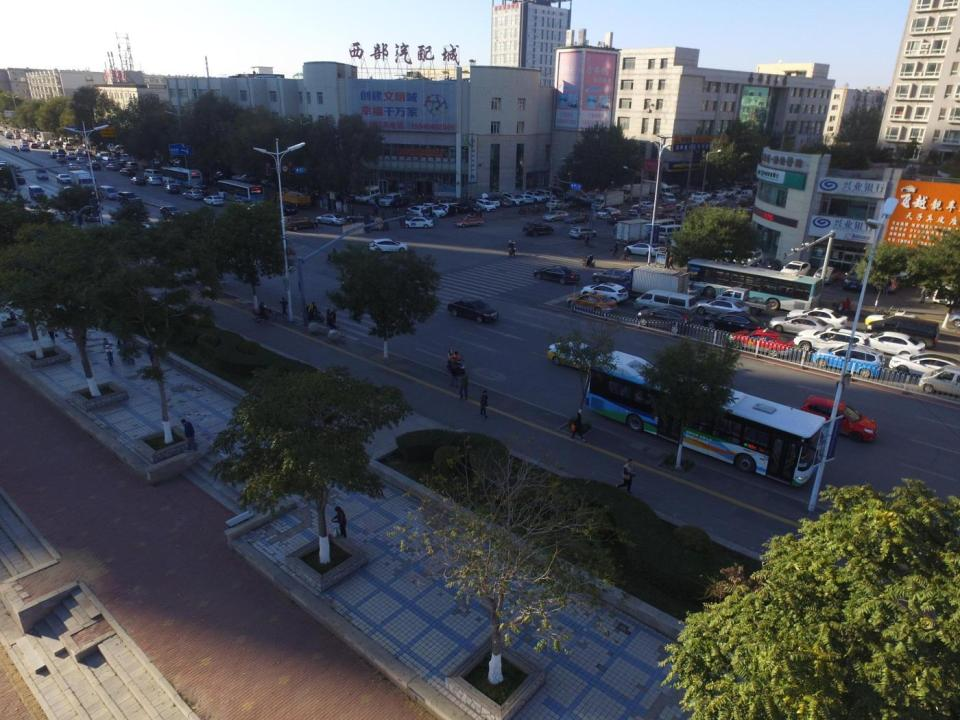bus: (585, 351, 831, 488), (686, 256, 822, 315), (217, 179, 266, 207), (159, 164, 204, 190), (33, 130, 43, 138)
car: (802, 395, 878, 442), (794, 320, 870, 357), (813, 343, 885, 378), (887, 351, 960, 383), (548, 340, 609, 377), (729, 329, 797, 359), (862, 330, 927, 360), (702, 311, 767, 338), (635, 305, 695, 334), (786, 307, 848, 333), (865, 310, 926, 336), (768, 315, 834, 339), (446, 296, 500, 323), (695, 297, 751, 319), (566, 292, 619, 315), (657, 278, 701, 302), (581, 282, 629, 304), (533, 264, 580, 284), (778, 258, 810, 284), (369, 237, 409, 256), (842, 262, 868, 290), (932, 278, 956, 308), (592, 268, 634, 285), (733, 245, 762, 269), (755, 256, 781, 282), (875, 266, 902, 291), (522, 221, 556, 237), (72, 204, 100, 223), (623, 243, 661, 257), (811, 266, 840, 284), (117, 190, 144, 208), (402, 215, 434, 229), (423, 202, 447, 220), (268, 201, 298, 215), (159, 204, 185, 220), (314, 212, 346, 225), (347, 212, 379, 225), (454, 215, 485, 228), (231, 198, 257, 213), (570, 226, 596, 239), (606, 212, 632, 225), (675, 200, 701, 213), (60, 185, 81, 201), (380, 192, 404, 206), (230, 171, 258, 183), (479, 196, 501, 211), (668, 213, 692, 226), (502, 192, 524, 206), (478, 192, 498, 207), (437, 202, 459, 215), (535, 189, 557, 202), (563, 213, 589, 224), (638, 193, 660, 206), (181, 190, 204, 202), (238, 172, 261, 184), (203, 194, 225, 206), (645, 209, 669, 220), (369, 193, 389, 206), (595, 207, 621, 217), (407, 206, 430, 217), (632, 202, 657, 212), (494, 194, 513, 207), (543, 210, 570, 219), (392, 195, 414, 206), (407, 199, 429, 210), (525, 191, 547, 202), (630, 205, 652, 216), (684, 196, 706, 207), (546, 200, 570, 210), (708, 196, 728, 208), (466, 200, 483, 214), (55, 173, 73, 186), (691, 191, 711, 202), (191, 185, 210, 196), (10, 172, 26, 185), (453, 199, 469, 212), (657, 203, 677, 213), (710, 189, 728, 199), (162, 177, 178, 188), (130, 176, 147, 186), (35, 167, 48, 180), (518, 193, 534, 203), (123, 161, 140, 170), (164, 185, 180, 194), (725, 187, 741, 196), (569, 198, 586, 206), (87, 162, 102, 171), (120, 168, 136, 176), (148, 176, 162, 185), (106, 163, 122, 170), (7, 144, 19, 153), (68, 164, 81, 172), (19, 144, 31, 152), (39, 142, 51, 150), (561, 193, 573, 201), (48, 150, 59, 158), (65, 152, 76, 160), (76, 156, 87, 164), (82, 150, 93, 158), (96, 152, 106, 160), (24, 135, 33, 143), (121, 153, 131, 160), (31, 141, 39, 149), (81, 142, 90, 149), (349, 204, 354, 216), (4, 130, 12, 137), (75, 148, 84, 154), (19, 138, 26, 145), (6, 133, 14, 139), (46, 139, 54, 145), (14, 133, 20, 139), (21, 141, 28, 146), (22, 128, 29, 133)
truck: (618, 265, 689, 301), (715, 286, 772, 315), (614, 218, 661, 243), (274, 189, 313, 211), (592, 189, 625, 210), (68, 169, 96, 193), (642, 178, 670, 200), (621, 183, 650, 203), (35, 132, 53, 143)
van: (864, 318, 940, 348), (634, 290, 696, 320), (280, 215, 319, 231), (658, 224, 685, 243), (354, 184, 380, 203), (651, 233, 675, 250), (653, 218, 677, 234), (28, 184, 48, 202), (100, 185, 120, 200), (581, 192, 605, 204), (734, 189, 754, 200), (142, 168, 160, 180), (661, 192, 676, 206), (548, 186, 564, 198), (101, 156, 117, 167), (665, 185, 680, 196), (56, 154, 68, 162), (54, 148, 67, 154), (62, 143, 73, 150), (53, 140, 63, 146)
